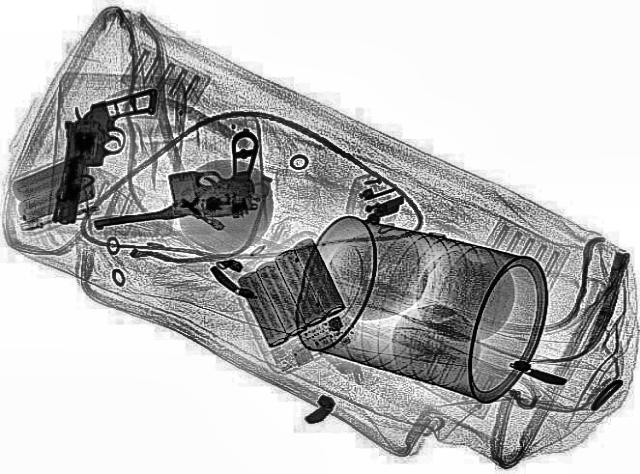Gun: (77, 130, 273, 226), (49, 84, 154, 228)
